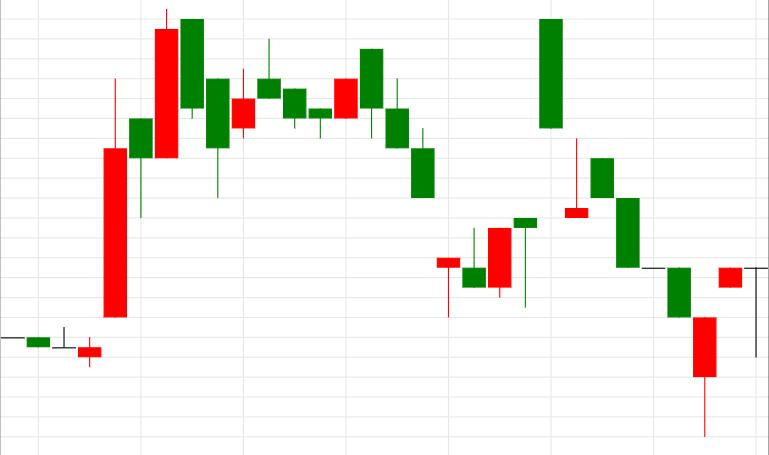bullish_engulfing_rise: (360, 49, 511, 318)
